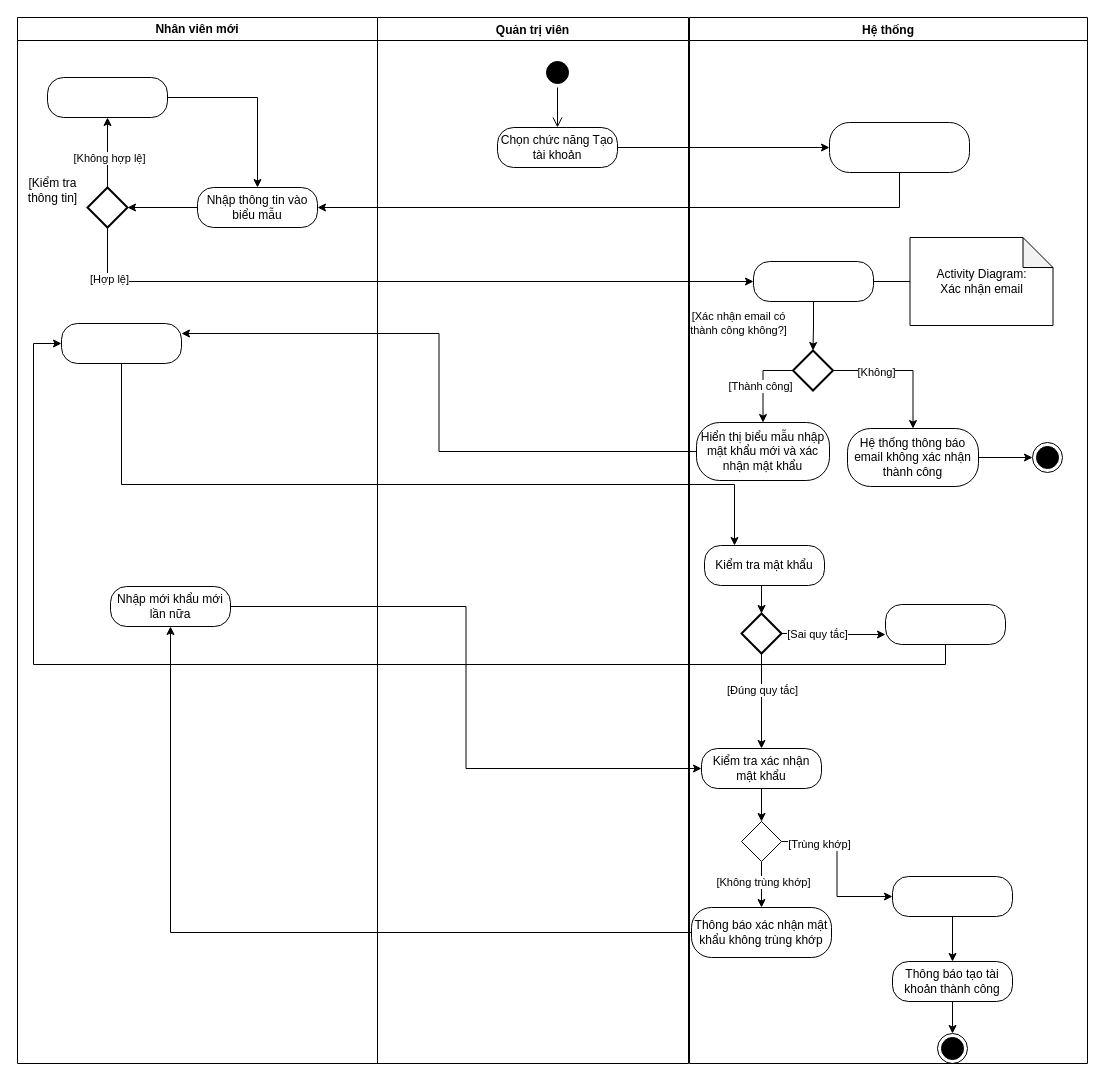
The diagram is 1105 pixels wide and 1081 high, and some of its shapes have lost their labels. Here are the shapes that lost their labels. From the top down, the centre of each, then its label:
At pixel 107 97: "Thông báo thông tin không hợp lệ".
At pixel 899 147: "Hiển thị biểu mẫu nhập thông tin cá nhân và email".
At pixel 813 281: "Xác nhận email".
At pixel 121 343: "Điền mật khẩu mới và xác nhận mật khẩu".
At pixel 945 624: "Thông báo mật khẩu sai quy tắc".
At pixel 952 896: "Tạo tài khoản".
